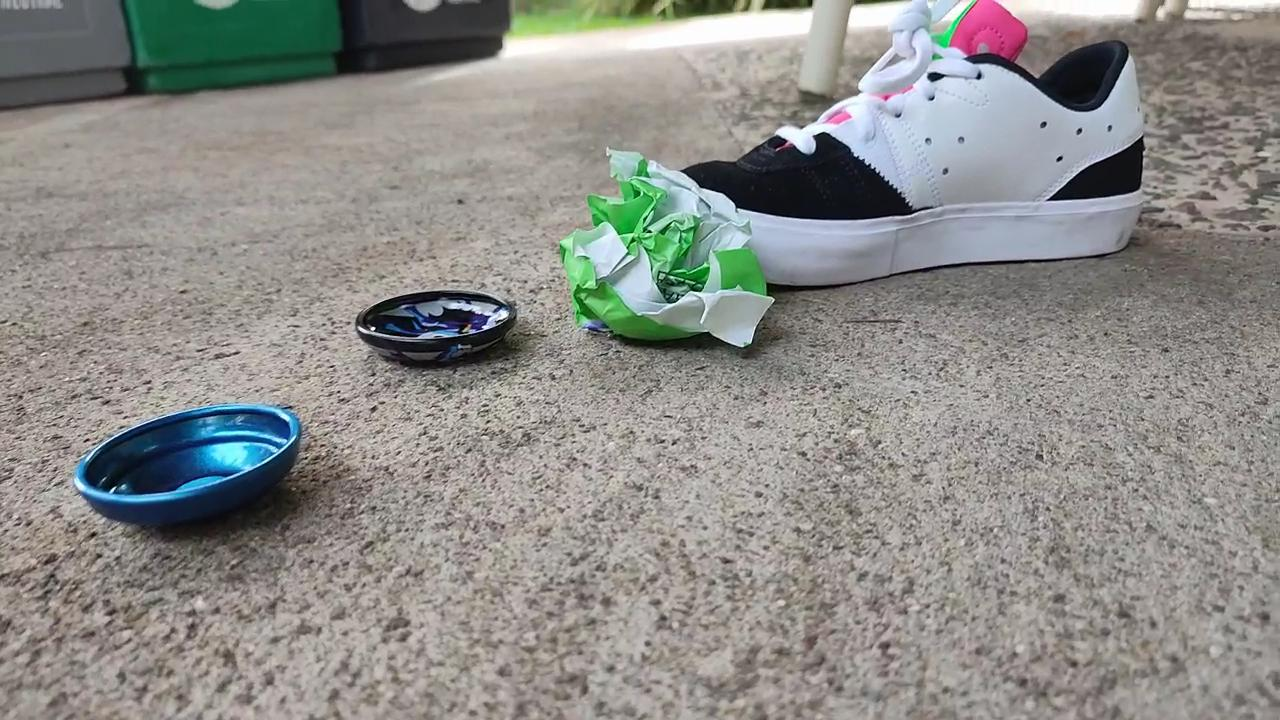Paper: (559, 138, 776, 359)
